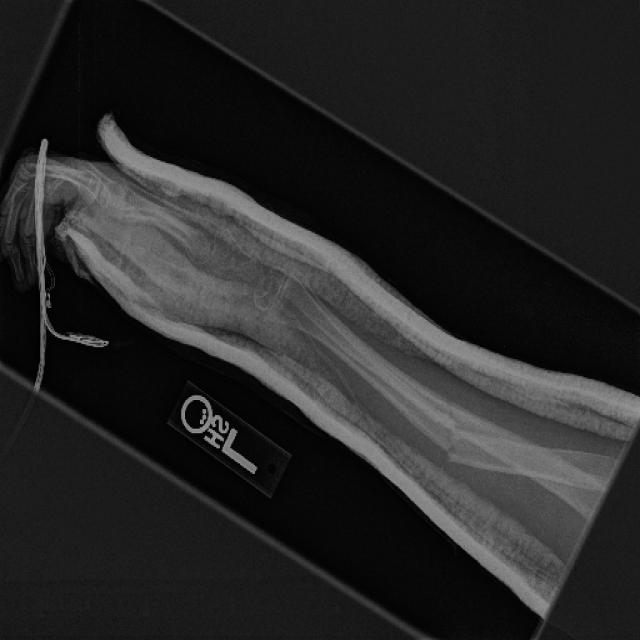forearm fracture: (388, 367, 534, 501)
